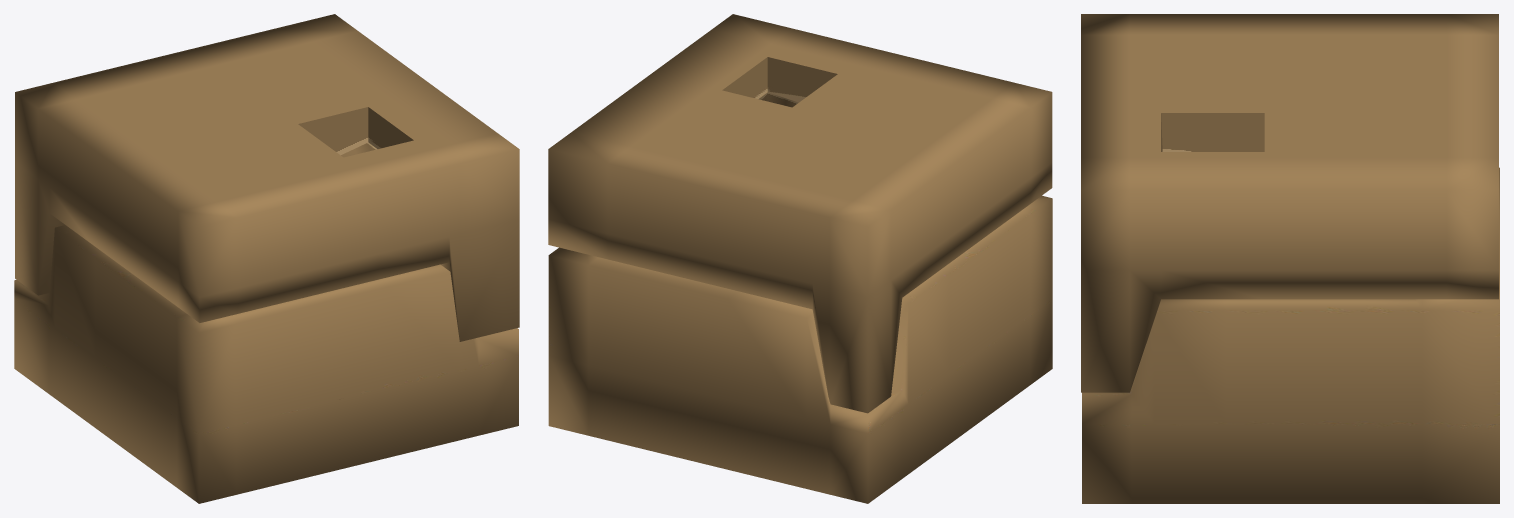
File: Mold_Wrench.fbx
3 views of the same model, side by side, from view 1: azimuth 30°, elevation 25°; view 2: azimuth 150°, elevation 25°; view 3: azimuth 270°, elevation 25° (orthographic). The views are drawn at different scales.
Visible parts, largest first — view 1: Top, Mold; view 2: Top, Mold; view 3: Top, Mold.
Part boxes in pixels (left/top/right/bottom): Top: left=15, top=14, right=519, bottom=341; Mold: left=14, top=225, right=518, bottom=503; Top: left=548, top=14, right=1052, bottom=413; Mold: left=548, top=195, right=1052, bottom=503; Top: left=1081, top=14, right=1498, bottom=392; Mold: left=1082, top=167, right=1499, bottom=503.
Bounding box in the file's own units: 211 × 175 × 211.
Materials: 2 (2 with a texture image).
